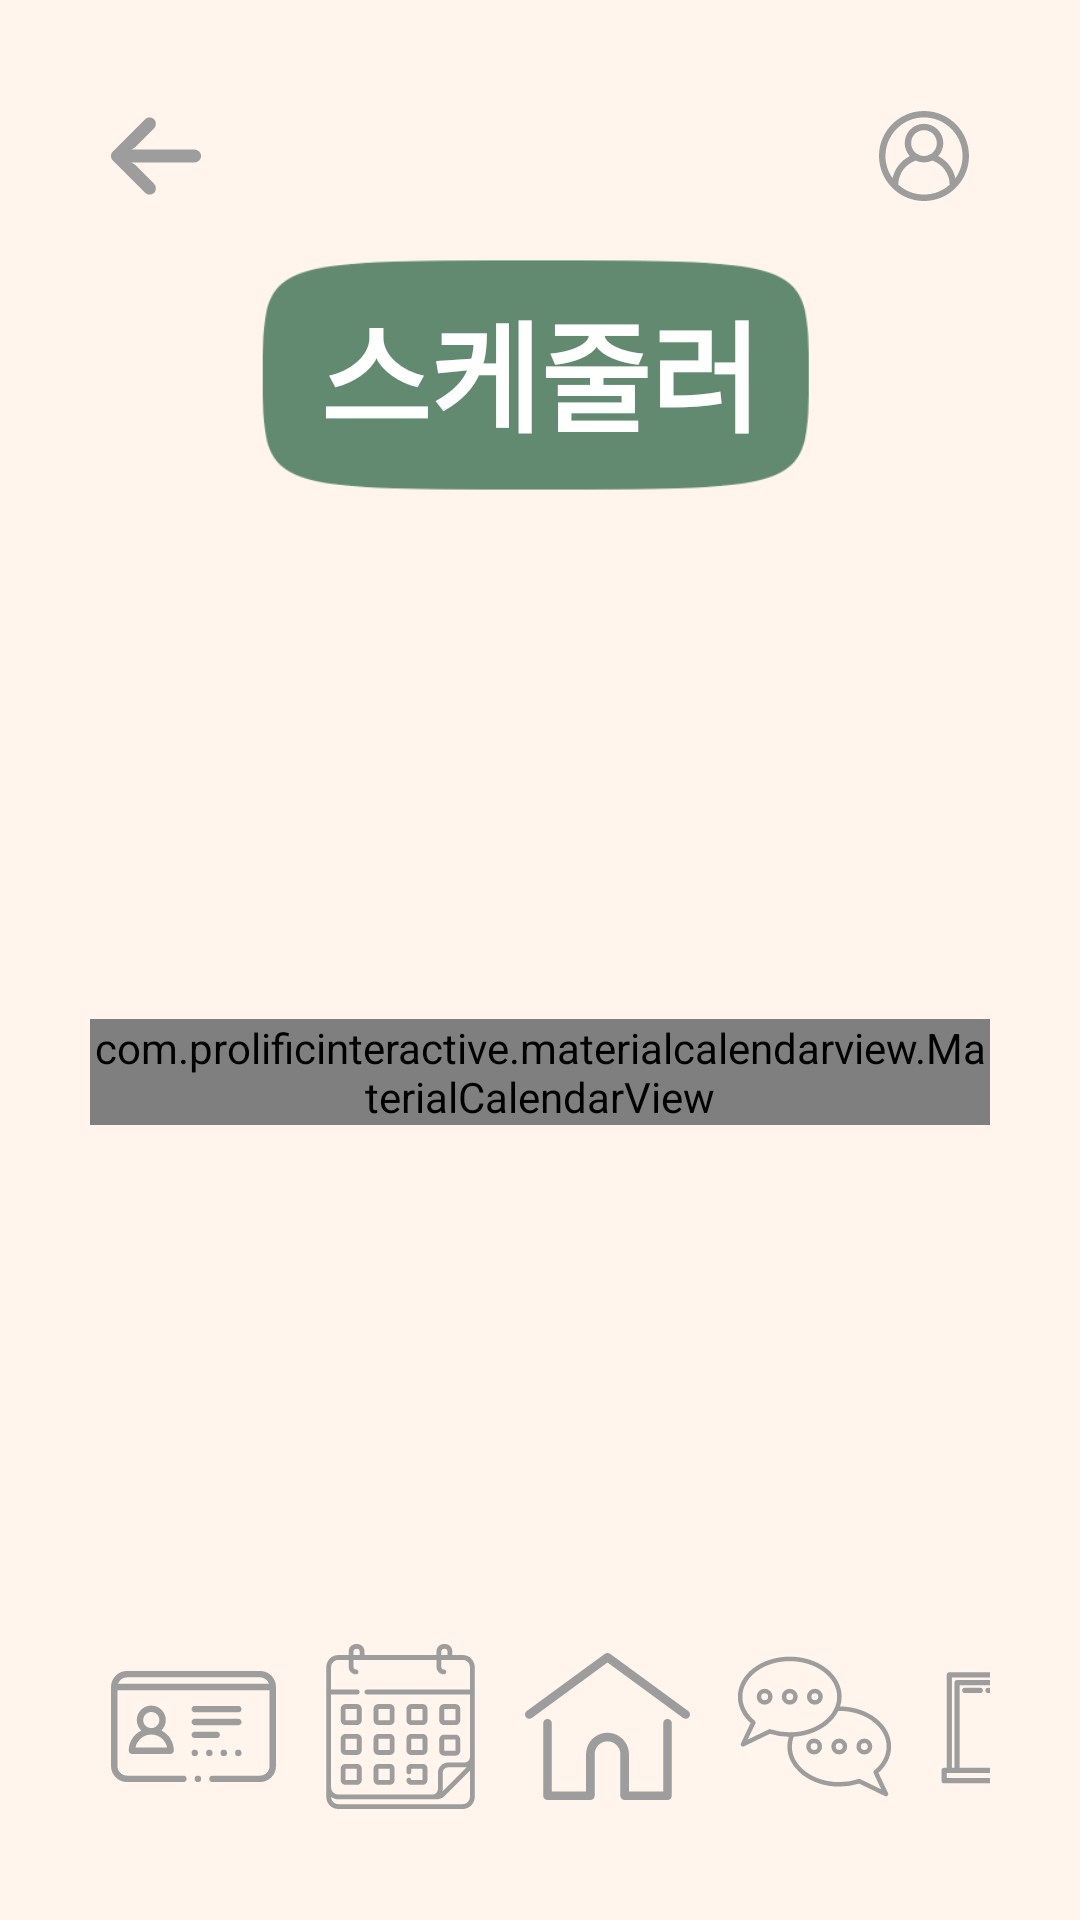

Icon bounding boxes for this 1080w x 1920h phone screenshot, format Rect(x1, y1, x2, y2):
calendar: Rect(326, 1644, 475, 1809)
community: Rect(738, 1657, 891, 1797)
home: Rect(525, 1653, 690, 1800)
left arrow: Rect(111, 117, 201, 195)
license: Rect(111, 1671, 276, 1782)
